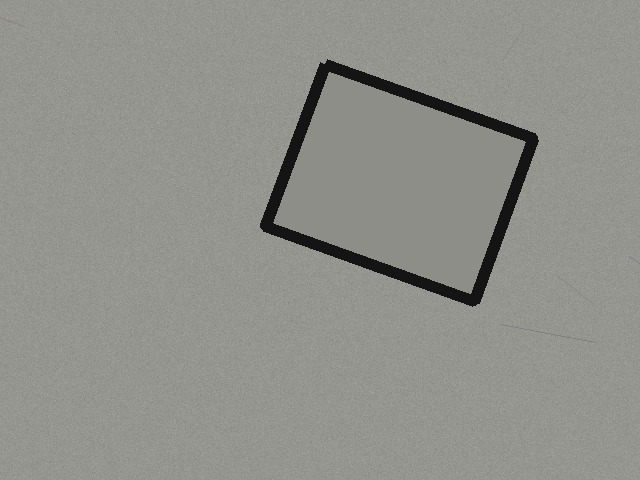parking_area: (265, 64, 533, 301)
